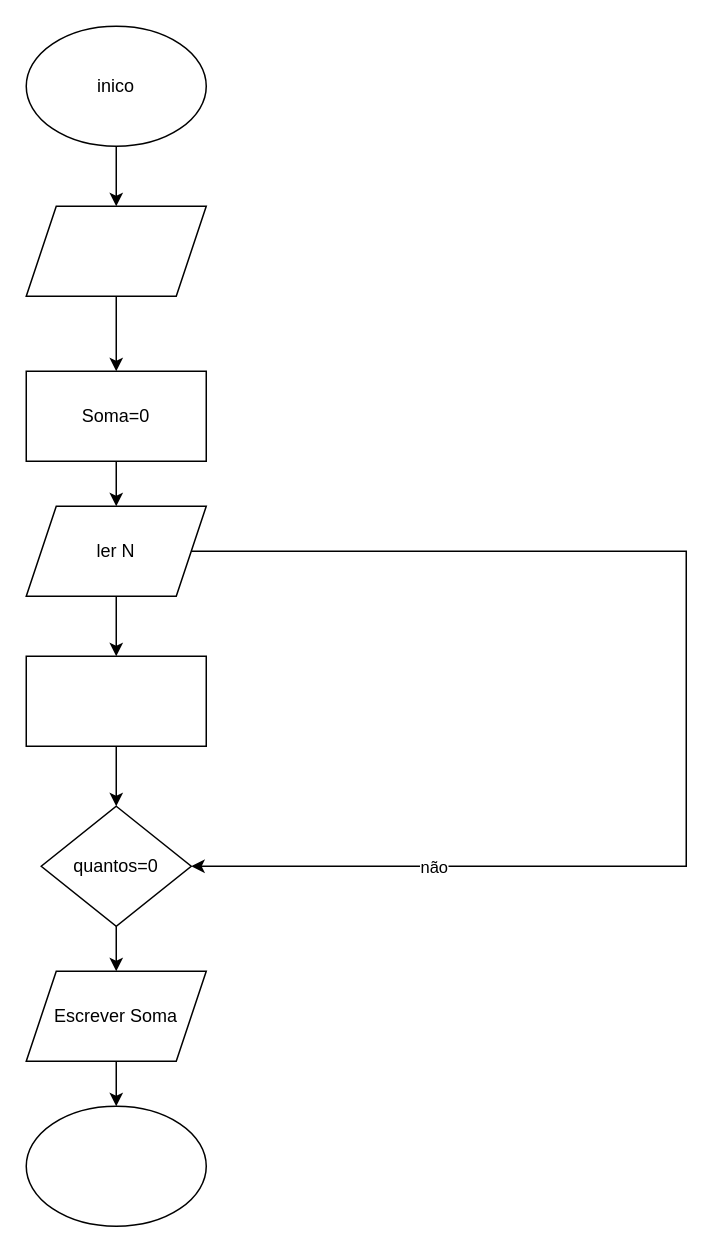
The diagram is 725 pixels wide and 1253 high, and some of its shapes have lost their labels. Each missing label, with the centre of its shape:
Fim: the point at 115,1165
ler quantos: the point at 115,250
Soma=Soma+N quantos=quantos-1: the point at 115,700
